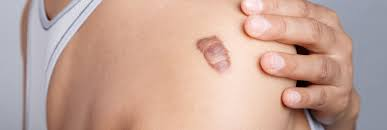keloid: (190, 28, 239, 79)
